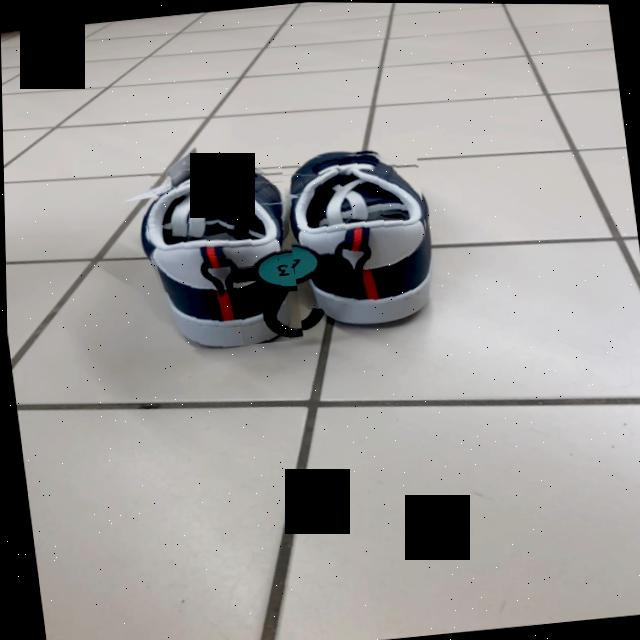shoe: (145, 168, 297, 347), (291, 153, 429, 305)
